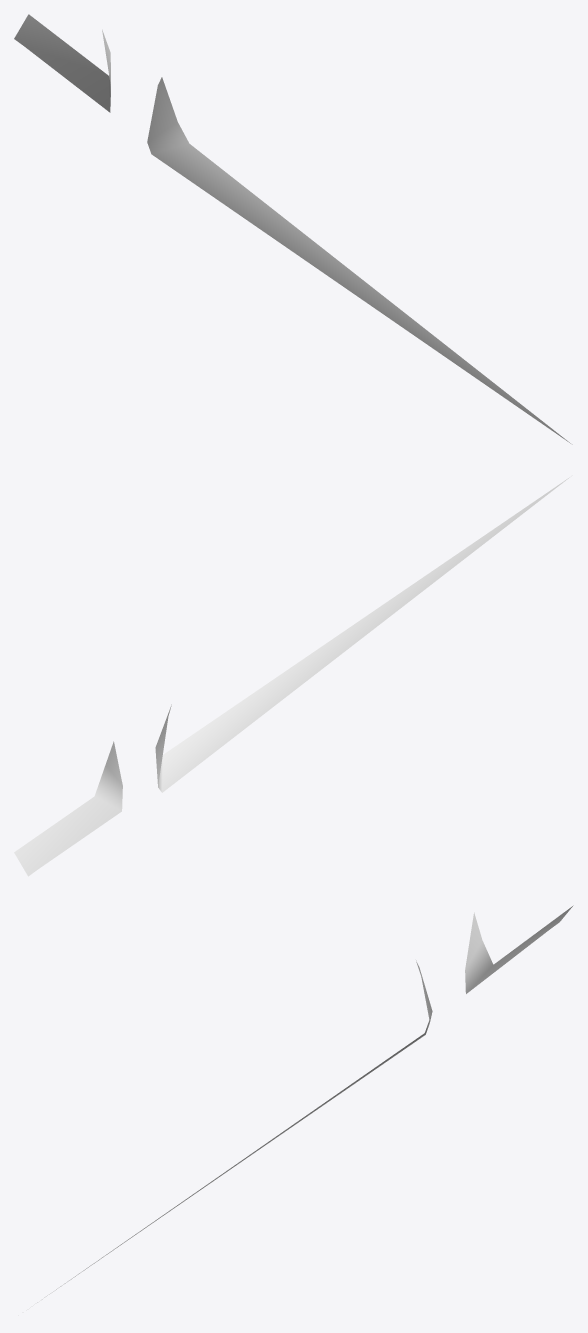
3 renders of one model, top to bottom at view 1: azimuth 30°, elevation 25°; view 2: azimuth 150°, elevation 25°; view 3: azimuth 330°, elevation 25°, orthographic. The views are drawn at different scales.
Bounding box in the file's own units: 0.017 × 0.0788 × 0.8921.
1 material, 1 textured.
